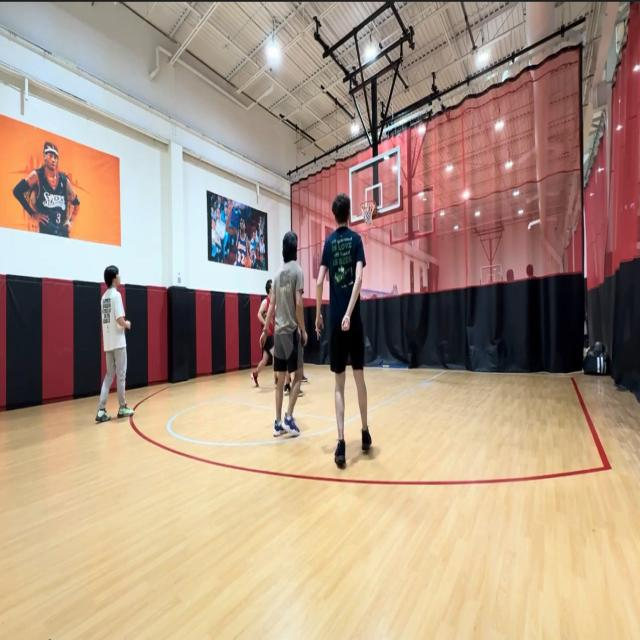Basketball Rim: (360, 201, 376, 225)
Player: (315, 191, 373, 469), (260, 231, 308, 441), (98, 263, 135, 420), (257, 279, 273, 383)
